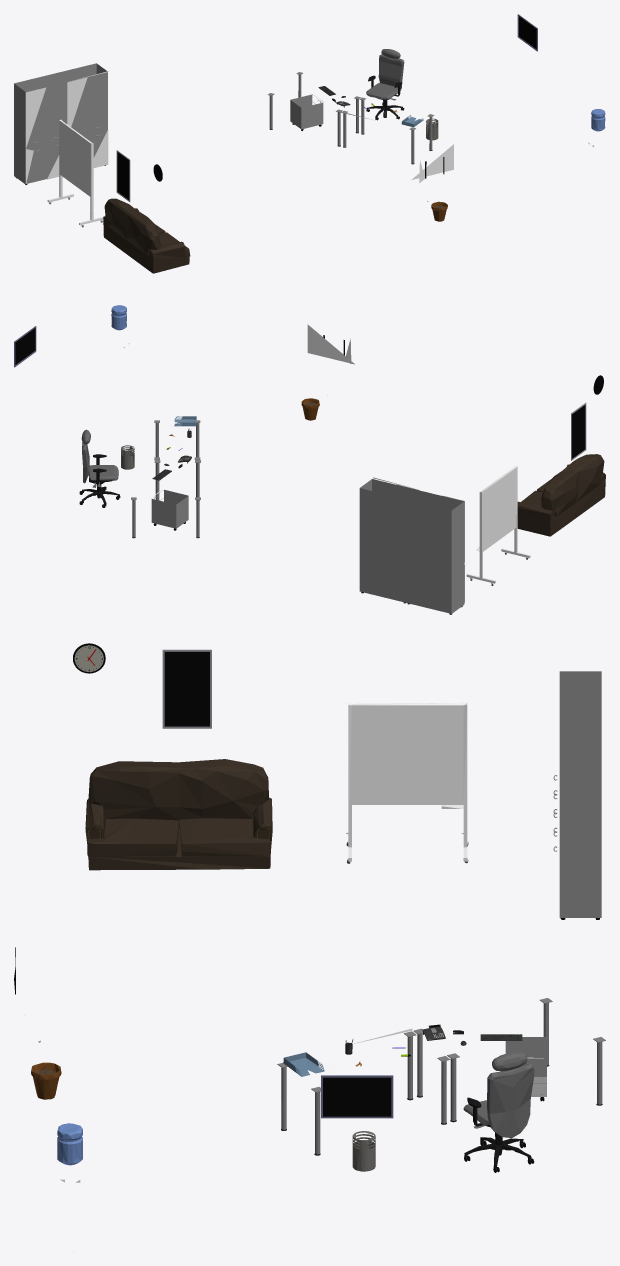
The picture shows the model from 3 angles, top to bottom: view 1: azimuth 30°, elevation 25°; view 2: azimuth 150°, elevation 25°; view 3: azimuth 270°, elevation 25°; orthographic projection. The views are drawn at different scales.
Visible parts, largest first — view 1: Object.8, Object.34, Object.39, Object.76, Object.13, Object.83, Object.78, Object.14, Object.74, Object.72, Object.82, Object.25 (+1 smaller); view 2: Object.8, Object.34, Object.39, Object.76, Object.83, Object.78, Object.14, Object.82, Object.25; view 3: Object.34, Object.39, Object.8, Object.78, Object.82, Object.13, Object.25, Object.76, Object.2, Object.14, Object.1, Object.3 (+1 smaller).
Boxes of the visible parts, x1=… form: Object.8: x1=14, y1=63, x2=108, y2=184; Object.34: x1=103, y1=198, x2=190, y2=276; Object.39: x1=47, y1=119, x2=103, y2=225; Object.76: x1=290, y1=94, x2=323, y2=130; Object.13: x1=378, y1=54, x2=404, y2=89; Object.83: x1=411, y1=144, x2=453, y2=182; Object.78: x1=116, y1=150, x2=130, y2=201; Object.14: x1=366, y1=83, x2=402, y2=117; Object.74: x1=26, y1=87, x2=46, y2=147; Object.72: x1=67, y1=77, x2=87, y2=132; Object.82: x1=517, y1=14, x2=537, y2=51; Object.25: x1=318, y1=86, x2=423, y2=127; Object.8: x1=359, y1=477, x2=464, y2=614; Object.34: x1=517, y1=454, x2=605, y2=536; Object.39: x1=466, y1=466, x2=530, y2=583; Object.76: x1=151, y1=489, x2=188, y2=530; Object.83: x1=307, y1=324, x2=354, y2=364; Object.78: x1=571, y1=402, x2=586, y2=460; Object.14: x1=82, y1=465, x2=119, y2=504; Object.82: x1=14, y1=326, x2=36, y2=367; Object.25: x1=152, y1=416, x2=196, y2=480; Object.34: x1=85, y1=759, x2=272, y2=870; Object.39: x1=346, y1=702, x2=467, y2=861; Object.8: x1=559, y1=671, x2=601, y2=919; Object.78: x1=162, y1=649, x2=211, y2=728; Object.82: x1=321, y1=1075, x2=393, y2=1118; Object.13: x1=487, y1=1064, x2=534, y2=1138; Object.25: x1=283, y1=1024, x2=522, y2=1076; Object.76: x1=505, y1=1037, x2=546, y2=1101; Object.2: x1=57, y1=1123, x2=82, y2=1251; Object.14: x1=463, y1=1100, x2=531, y2=1166; Object.1: x1=31, y1=1040, x2=61, y2=1099; Object.3: x1=352, y1=1131, x2=375, y2=1171.
Bounding box in the file's own units: 983 × 233 × 602.
